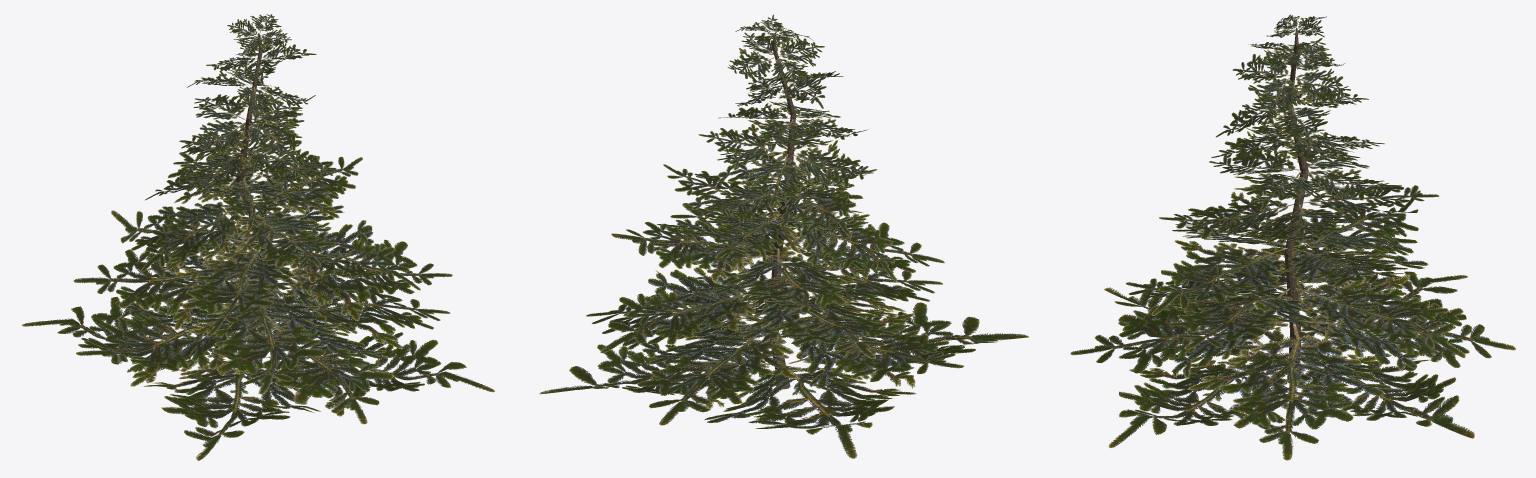
File: pine-tree.obj
3 views of the same model, side by side, from view 1: azimuth 30°, elevation 25°; view 2: azimuth 150°, elevation 25°; view 3: azimuth 270°, elevation 25° (orthographic). The views are drawn at different scales.
Visible parts, largest first — view 1: Plane.003_Plane.004, Plane.001_Plane.003, Plane.002_Plane.001, Plane.004_Plane.005, Plane.005_Plane.006, Plane.008_Plane.009, Plane.006_Plane.007, Plane.007_Plane.008, Plane.009_Plane.010, Plane.010_Plane.011, Plane.011_Plane.012, Circle; view 2: Plane.002_Plane.001, Plane.001_Plane.003, Plane.003_Plane.004, Plane.004_Plane.005, Plane.005_Plane.006, Plane.007_Plane.008, Plane.006_Plane.007, Plane.008_Plane.009, Plane.010_Plane.011, Plane.009_Plane.010, Circle, Plane.011_Plane.012; view 3: Plane.001_Plane.003, Plane.002_Plane.001, Plane.003_Plane.004, Plane.004_Plane.005, Plane.005_Plane.006, Plane.006_Plane.007, Plane.009_Plane.010, Plane.008_Plane.009, Plane.007_Plane.008, Circle, Plane.010_Plane.011, Plane.011_Plane.012.
Part boxes in pixels (box(x1,y1,x2,y2)): Plane.003_Plane.004: box(73, 223, 452, 394); Plane.001_Plane.003: box(76, 260, 450, 424); Plane.002_Plane.001: box(21, 266, 495, 460); Plane.004_Plane.005: box(111, 156, 420, 336); Plane.005_Plane.006: box(140, 151, 362, 272); Plane.008_Plane.009: box(192, 93, 302, 165); Plane.006_Plane.007: box(145, 142, 342, 230); Plane.007_Plane.008: box(179, 109, 310, 188); Plane.009_Plane.010: box(186, 65, 315, 121); Plane.010_Plane.011: box(206, 33, 316, 85); Plane.011_Plane.012: box(227, 14, 291, 56); Circle: box(236, 34, 268, 378); Plane.002_Plane.001: box(539, 268, 1029, 458); Plane.001_Plane.003: box(586, 273, 964, 425); Plane.003_Plane.004: box(600, 203, 942, 358); Plane.004_Plane.005: box(611, 189, 944, 316); Plane.005_Plane.006: box(663, 164, 897, 281); Plane.007_Plane.008: box(698, 119, 877, 207); Plane.006_Plane.007: box(704, 147, 873, 237); Plane.008_Plane.009: box(718, 101, 867, 151); Plane.010_Plane.011: box(727, 32, 824, 84); Plane.009_Plane.010: box(735, 69, 843, 108); Circle: box(768, 32, 795, 389); Plane.011_Plane.012: box(735, 14, 813, 45); Plane.001_Plane.003: box(1070, 229, 1515, 460); Plane.002_Plane.001: box(1104, 270, 1474, 448); Plane.003_Plane.004: box(1126, 215, 1465, 358); Plane.004_Plane.005: box(1151, 190, 1420, 315); Plane.005_Plane.006: box(1159, 181, 1439, 242); Plane.006_Plane.007: box(1209, 136, 1397, 211); Plane.009_Plane.010: box(1232, 44, 1350, 115); Plane.008_Plane.009: box(1215, 76, 1368, 148); Plane.007_Plane.008: box(1211, 117, 1384, 162); Circle: box(1284, 27, 1308, 382); Plane.010_Plane.011: box(1248, 38, 1345, 72); Plane.011_Plane.012: box(1266, 14, 1326, 37).
Bounding box in the file's own units: 71.82 × 63.7 × 71.87.
